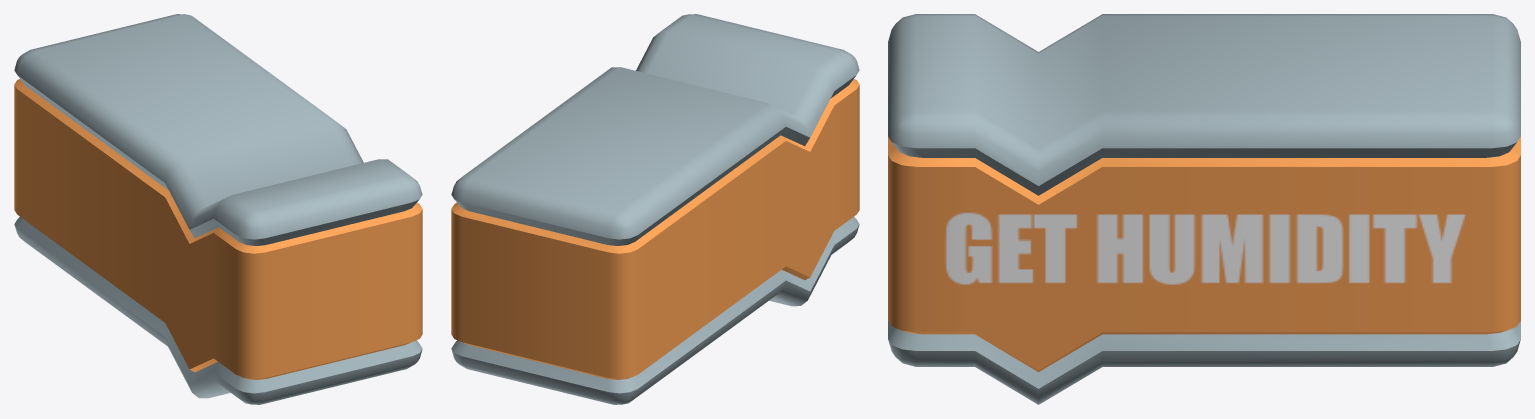
Rendered from Blocks_BlockProgramming-GetHumidity.fbx.
3 renders of one model, left to right at view 1: azimuth 30°, elevation 25°; view 2: azimuth 150°, elevation 25°; view 3: azimuth 270°, elevation 25°, orthographic. The views are drawn at different scales.
Visible parts, largest first — view 1: ActionBlock_GetHumidity; view 2: ActionBlock_GetHumidity; view 3: ActionBlock_GetHumidity.
Boxes of the visible parts, <box> form: ActionBlock_GetHumidity: <box>14,14,422,404</box>; ActionBlock_GetHumidity: <box>451,14,859,404</box>; ActionBlock_GetHumidity: <box>888,14,1520,404</box>.
Size of the model in its own units: 10 by 11.5 by 22.64.
